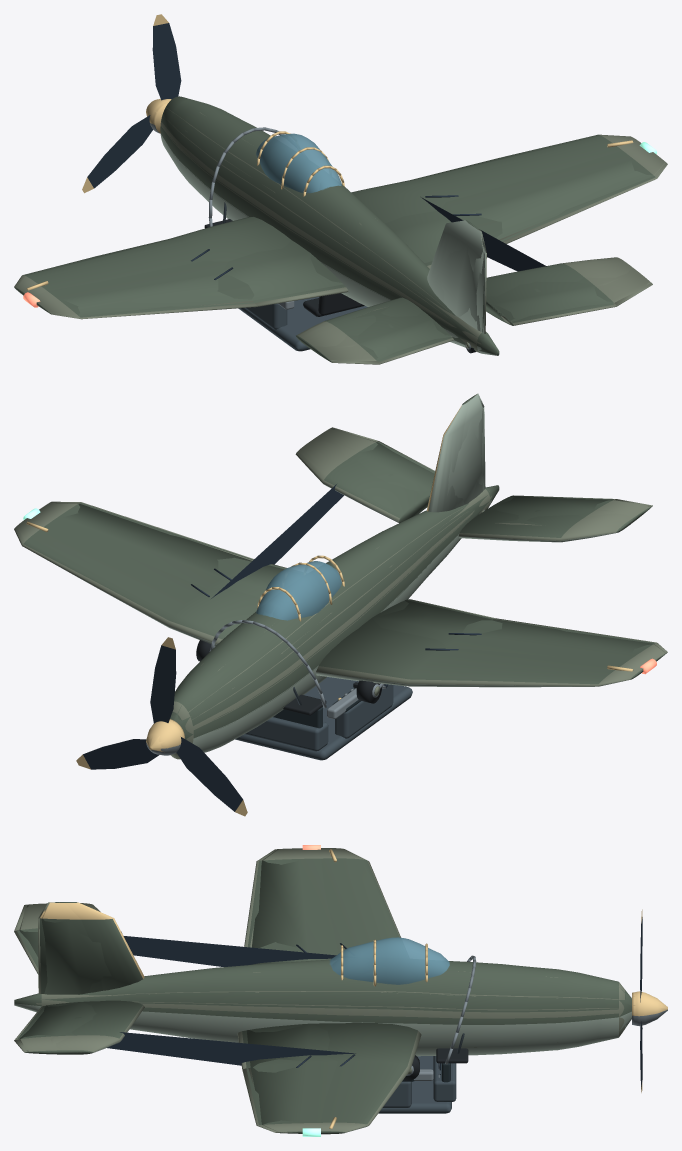
3 views of the same model, one above another, from view 1: azimuth 30°, elevation 25°; view 2: azimuth 150°, elevation 25°; view 3: azimuth 270°, elevation 25° (orthographic). The views are drawn at different scales.
Parts seen in each view (by area): view 1: Airframe shell mesh, Airframe shell.002 mesh, Airframe shell.001 mesh, Starboard wing, Central fuselage, Cockpit shell mesh, Port wing, Forward fuselage, Canopy glass, Aft nacelles, Canopy glass.001, Prop_0 mesh (+2 smaller); view 2: Airframe shell mesh, Airframe shell.002 mesh, Cockpit shell mesh, Airframe shell.001 mesh, Starboard wing, Prop_0 mesh, Central fuselage, Canopy glass, Port wing, Forward fuselage, Canopy glass.001, Aft nacelles (+1 smaller); view 3: Airframe shell mesh, Airframe shell.002 mesh, Airframe shell.001 mesh, Port wing, Starboard wing, Central fuselage, Cockpit shell mesh, Canopy glass, Canopy glass.001, Forward fuselage, Aft nacelles, Spinner.
Part boxes in pixels (bbox=[...]): Airframe shell mesh: bbox=[14, 96, 656, 364]; Airframe shell.002 mesh: bbox=[17, 111, 665, 361]; Airframe shell.001 mesh: bbox=[14, 97, 665, 364]; Starboard wing: bbox=[421, 147, 662, 306]; Central fuselage: bbox=[225, 131, 432, 303]; Cockpit shell mesh: bbox=[204, 127, 367, 351]; Port wing: bbox=[34, 260, 388, 361]; Forward fuselage: bbox=[82, 14, 268, 214]; Canopy glass: bbox=[256, 133, 341, 193]; Aft nacelles: bbox=[382, 223, 598, 357]; Canopy glass.001: bbox=[256, 134, 341, 192]; Prop_0 mesh: bbox=[85, 19, 178, 186]; Airframe shell mesh: bbox=[14, 396, 656, 759]; Airframe shell.002 mesh: bbox=[49, 395, 665, 739]; Cockpit shell mesh: bbox=[209, 620, 412, 760]; Airframe shell.001 mesh: bbox=[37, 394, 665, 750]; Starboard wing: bbox=[33, 432, 389, 598]; Prop_0 mesh: bbox=[76, 637, 247, 816]; Central fuselage: bbox=[252, 526, 479, 697]; Canopy glass: bbox=[256, 561, 341, 620]; Port wing: bbox=[439, 498, 667, 665]; Forward fuselage: bbox=[84, 620, 295, 807]; Canopy glass.001: bbox=[258, 562, 340, 620]; Aft nacelles: bbox=[388, 395, 597, 580]; Airframe shell mesh: bbox=[14, 845, 626, 1136]; Airframe shell.002 mesh: bbox=[14, 848, 631, 1133]; Airframe shell.001 mesh: bbox=[16, 848, 618, 1133]; Port wing: bbox=[17, 848, 337, 966]; Starboard wing: bbox=[14, 1032, 355, 1133]; Central fuselage: bbox=[195, 937, 461, 1054]; Cockpit shell mesh: bbox=[378, 955, 476, 1113]; Canopy glass: bbox=[331, 937, 448, 984]; Canopy glass.001: bbox=[331, 937, 447, 984]; Forward fuselage: bbox=[461, 918, 648, 1092]; Aft nacelles: bbox=[22, 902, 195, 1037]; Spinner: bbox=[632, 991, 667, 1026].
Bounding box in the file's own units: 10.05 × 3.06 × 9.68.
